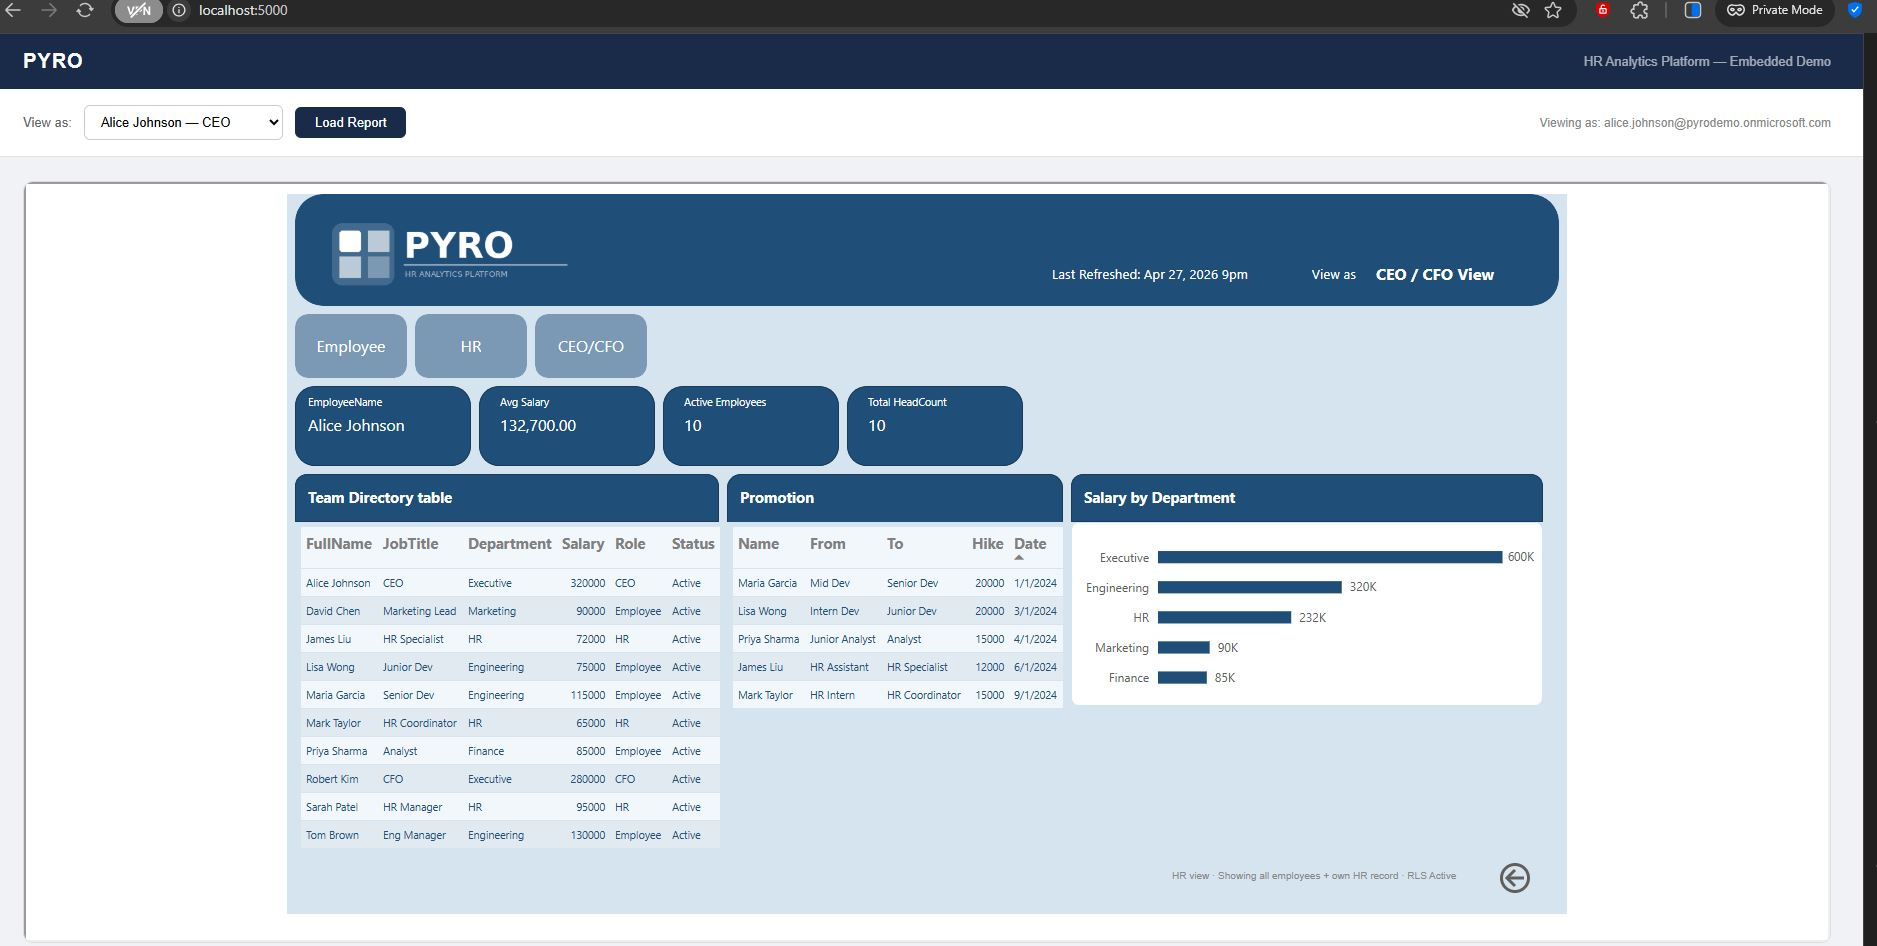

This screenshot's page, from the dashboard's own definition file:
{"tool":"powerbi","page":{"name":"CEO/CFO","canvas":[1280,720],"ordinal":3},"visuals":[{"type":"textbox","box":[1016,72,64,32],"z":0,"group":"g3"},{"type":"group","id":"g1","title":"Group 1","box":[8,280,720,48],"z":0,"group":"g5"},{"type":"shape","box":[8,280,720,48],"z":0,"group":"g1"},{"type":"shape","box":[744,280,496,48],"z":0,"group":"g4"},{"type":"multiRowCard","fields":{"Values":["_Measure.Current Role"]},"box":[1080,72,168,32],"z":1000,"group":"g3"},{"type":"shape","box":[8,192,176,80],"z":1000,"group":"g5"},{"type":"shape","box":[8,0,1264,112],"z":2000},{"type":"image","box":[40,0,318.5,120],"z":3000},{"type":"actionButton","box":[8,120,112,64],"z":4000,"group":"g2"},{"type":"textbox","box":[16,288,208,40],"z":4000,"group":"g5"},{"type":"textbox","box":[776,72,216,48],"z":5000,"group":"g5"},{"type":"actionButton","box":[128,120,112,64],"z":5000,"group":"g2"},{"type":"group","id":"g2","title":"Group 1","box":[8,120,352,64],"z":6000,"group":"g5"},{"type":"actionButton","box":[248,120,112,64],"z":6000,"group":"g2"},{"type":"group","id":"g3","title":"Group 2","box":[1016,72,232,32],"z":7000,"group":"g5"},{"type":"shape","box":[192,192,176,80],"z":8000,"group":"g5"},{"type":"shape","box":[376,192,176,80],"z":9000,"group":"g5"},{"type":"shape","box":[560,192,176,80],"z":10000,"group":"g5"},{"type":"multiRowCard","title":"EmployeeName","fields":{"Values":["_Measure.Employee Name cardMy Name"]},"box":[16,200,144,56],"z":11000,"group":"g5"},{"type":"multiRowCard","title":"Total HeadCount","fields":{"Values":["_Measure.Total Headcount"]},"box":[208,200,152,56],"z":12000,"group":"g5"},{"type":"multiRowCard","title":"Total Salary Budget","fields":{"Values":["_Measure.Total Salary Budget"]},"box":[392,200,152,56],"z":13000,"group":"g5"},{"type":"multiRowCard","title":"Active projects","fields":{"Values":["_Measure.Active Projects"]},"box":[576,200,152,56],"z":14000,"group":"g5"},{"type":"shape","box":[744,192,176,80],"z":15000,"group":"g5"},{"type":"multiRowCard","title":"Total Promotions","fields":{"Values":["_Measure.Total Promotions"]},"box":[760,200,152,56],"z":16000,"group":"g5"},{"type":"tableEx","title":"My Projects","fields":{"Values":["Employees.FullName","Employees.JobTitle","Employees.Department","Sum(Employees.Salary)","Employees.Role","Employees.Status","Employees.ManagerName","Employees.StartDate","Projects.ProjectName"]},"box":[8,328,728,360],"z":17000,"group":"g5"},{"type":"group","id":"g4","title":"Group 1","box":[744,280,496,48],"z":18000,"group":"g5"},{"type":"textbox","box":[752,288,352,152],"z":19000,"group":"g5"},{"type":"clusteredBarChart","fields":{"Y":["Sum(Projects.AllocationPct)"],"Category":["Projects.ProjectName"]},"box":[744,328,496,320],"z":20000,"group":"g5"},{"type":"textbox","box":[856,680,424,32],"z":21000},{"type":"actionButton","box":[1216,672,64,40],"z":22000},{"type":"group","id":"g5","title":"Group 3","box":[8,72,1240,616],"z":22001}]}

Visuals, with their boxes on the page's 1280x720 design canvas (x1, y1, x2, y2). These are canvas units, not pixel positions in the 1877x946 screenshot, which may show the page scaled, cropped or inside an application window:
textbox: select_region(1016, 72, 1080, 104)
"Group 1" group: select_region(8, 280, 728, 328)
shape: select_region(8, 280, 728, 328)
shape: select_region(744, 280, 1240, 328)
multiRowCard - _Measure.Current Role: select_region(1080, 72, 1248, 104)
shape: select_region(8, 192, 184, 272)
shape: select_region(8, 0, 1272, 112)
image: select_region(40, 0, 358, 120)
actionButton: select_region(8, 120, 120, 184)
textbox: select_region(16, 288, 224, 328)
textbox: select_region(776, 72, 992, 120)
actionButton: select_region(128, 120, 240, 184)
"Group 1" group: select_region(8, 120, 360, 184)
actionButton: select_region(248, 120, 360, 184)
"Group 2" group: select_region(1016, 72, 1248, 104)
shape: select_region(192, 192, 368, 272)
shape: select_region(376, 192, 552, 272)
shape: select_region(560, 192, 736, 272)
"EmployeeName" multiRowCard: select_region(16, 200, 160, 256)
"Total HeadCount" multiRowCard: select_region(208, 200, 360, 256)
"Total Salary Budget" multiRowCard: select_region(392, 200, 544, 256)
"Active projects" multiRowCard: select_region(576, 200, 728, 256)
shape: select_region(744, 192, 920, 272)
"Total Promotions" multiRowCard: select_region(760, 200, 912, 256)
"My Projects" tableEx: select_region(8, 328, 736, 688)
"Group 1" group: select_region(744, 280, 1240, 328)
textbox: select_region(752, 288, 1104, 440)
clusteredBarChart - Sum(Projects.AllocationPct) x Projects.ProjectName: select_region(744, 328, 1240, 648)
textbox: select_region(856, 680, 1280, 712)
actionButton: select_region(1216, 672, 1280, 712)
"Group 3" group: select_region(8, 72, 1248, 688)
